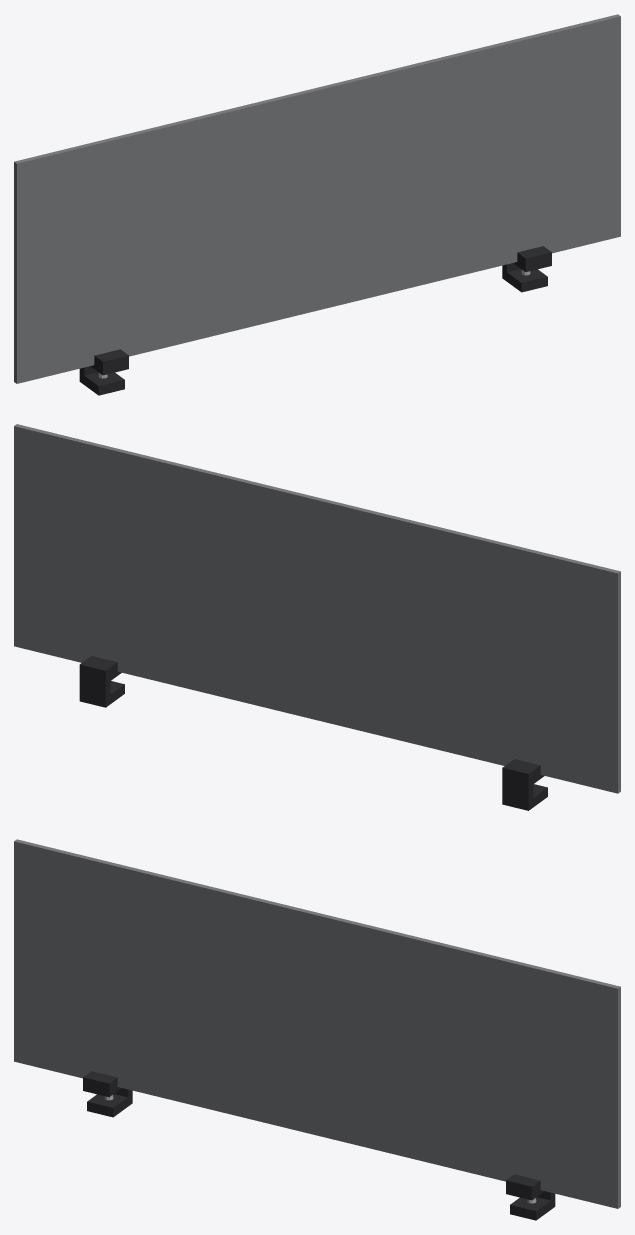
File: FN_Screen_Desk.glb
3 views of the same model, one above another, from view 1: azimuth 30°, elevation 25°; view 2: azimuth 150°, elevation 25°; view 3: azimuth 330°, elevation 25° (orthographic).
Parts seen in each view (by area): view 1: FN_Screen_Desk; view 2: FN_Screen_Desk; view 3: FN_Screen_Desk.
Part boxes in pixels (x1=…): FN_Screen_Desk: x1=14, y1=14, x2=620, y2=395; FN_Screen_Desk: x1=14, y1=424, x2=620, y2=810; FN_Screen_Desk: x1=14, y1=839, x2=620, y2=1220.
Bounding box in the file's own units: 1.2 × 0.47 × 0.08.
Materials: 1 (1 with a texture image).
